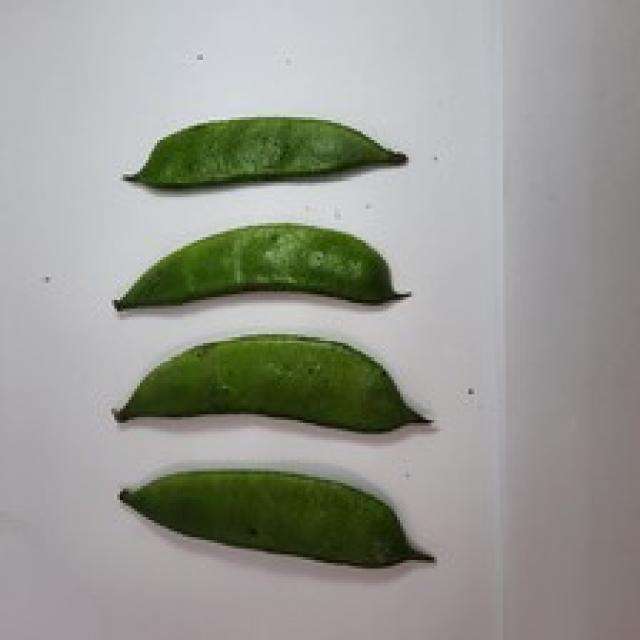Bean: (117, 466, 434, 568), (109, 332, 432, 432), (111, 220, 412, 311), (120, 112, 409, 188)
